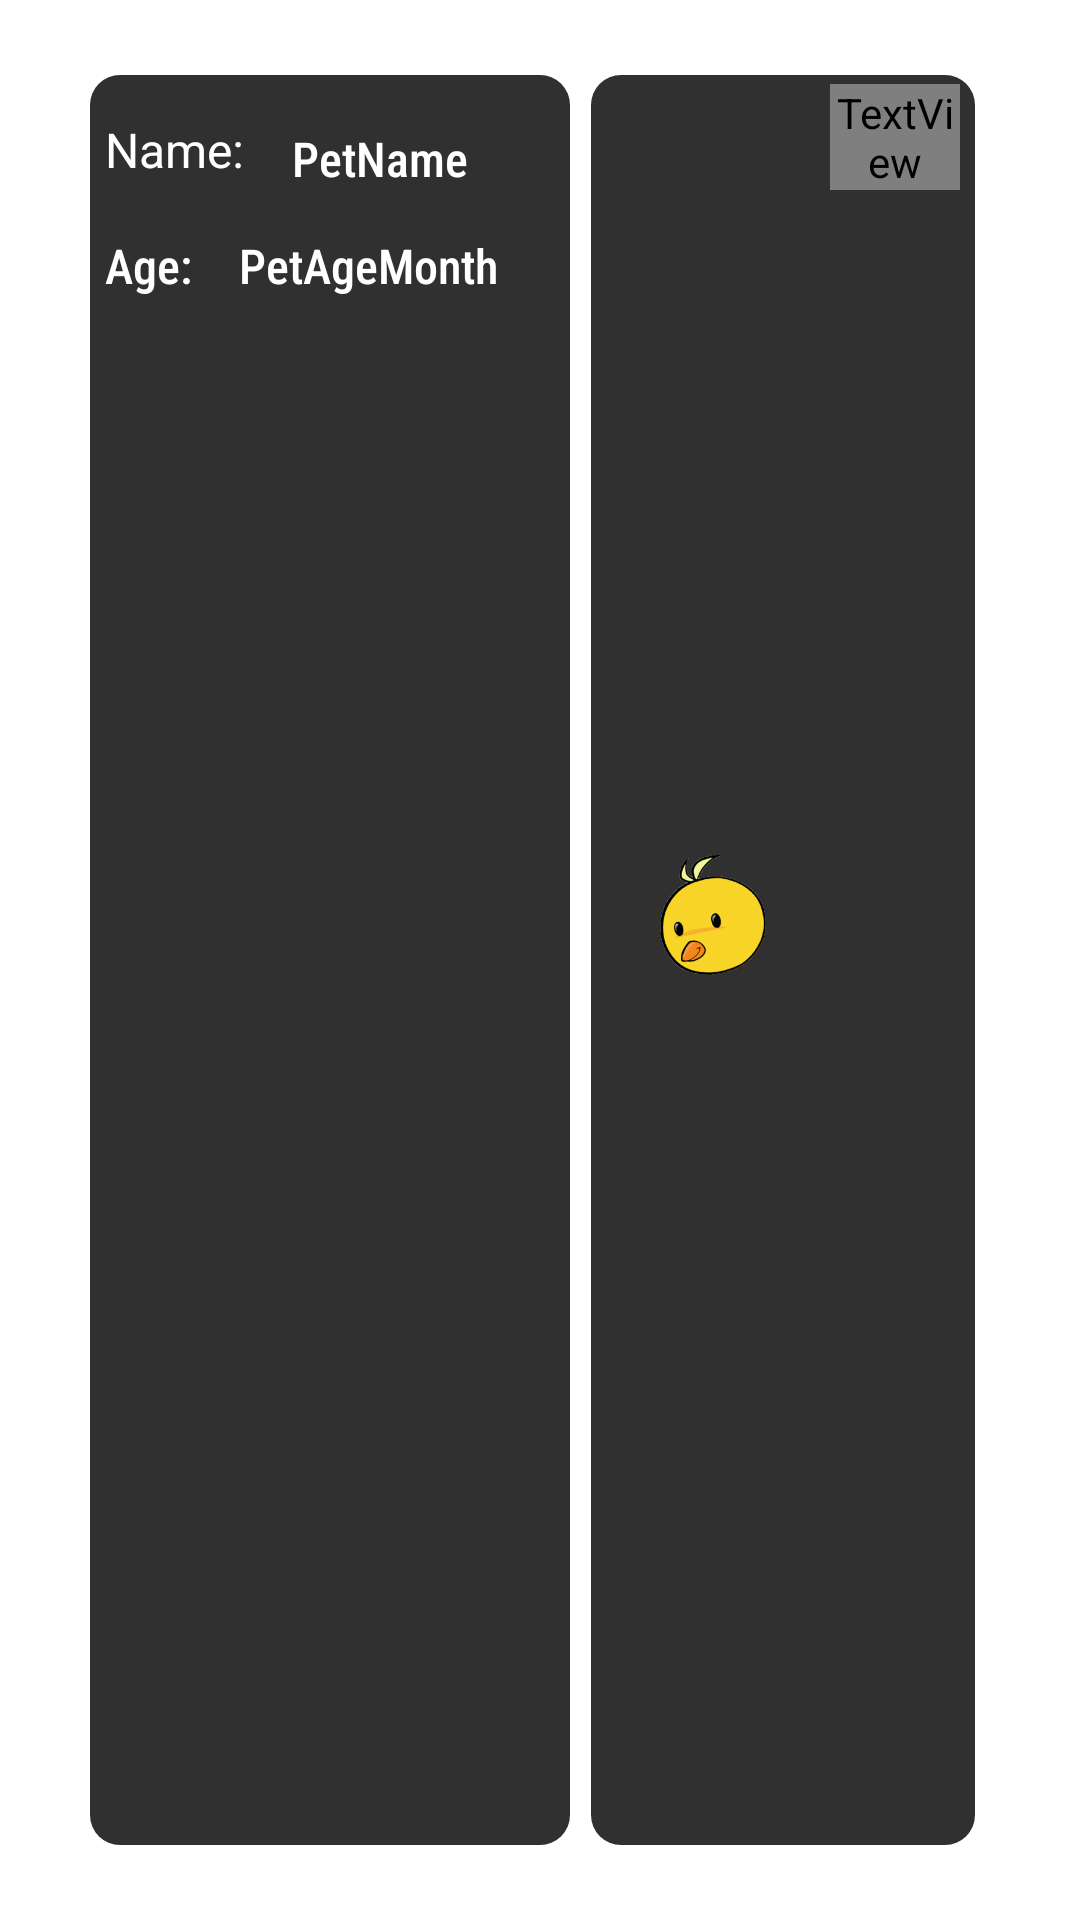

Named icons in this screenshot (1080 x 1920) and their centers, (x=x, y=y):
bird: (x=712, y=915)
